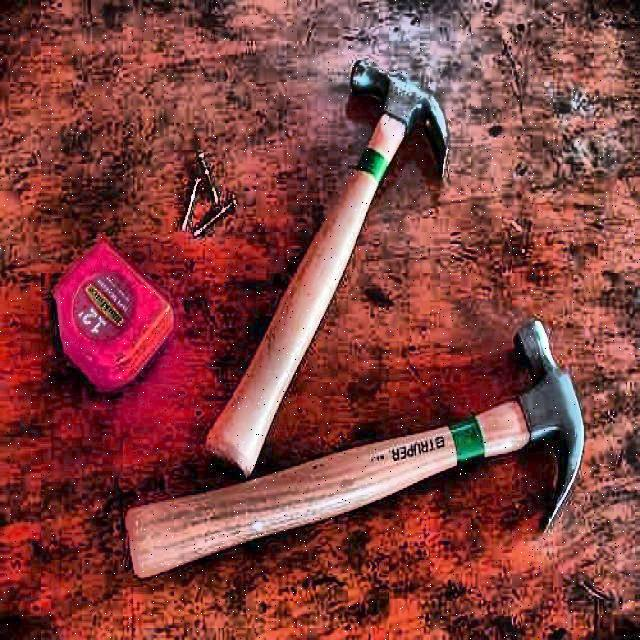hammer: (133, 317, 585, 581), (199, 58, 451, 470)
